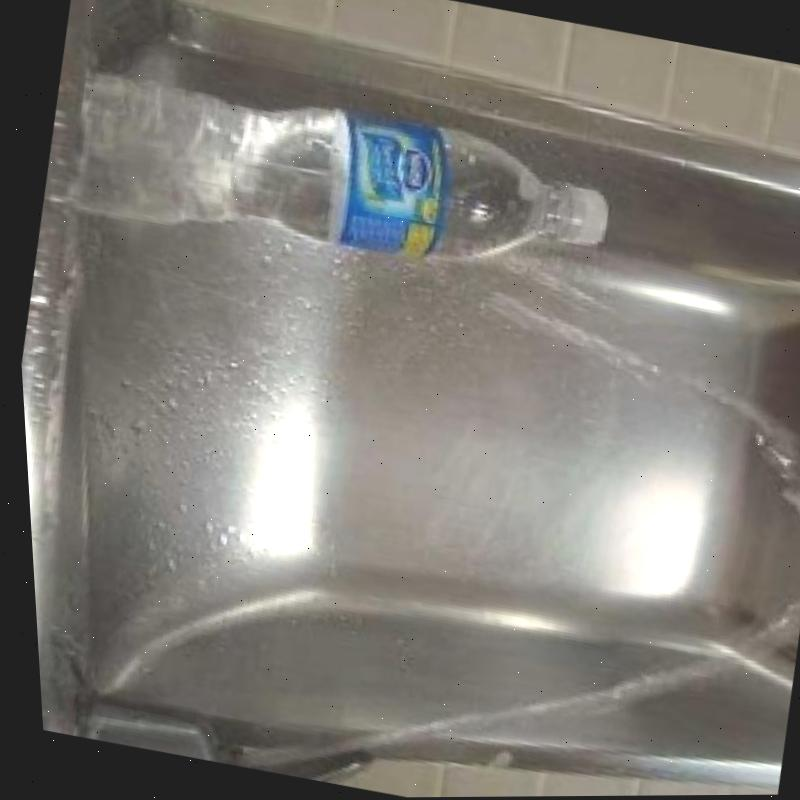botella: (54, 51, 624, 313)
